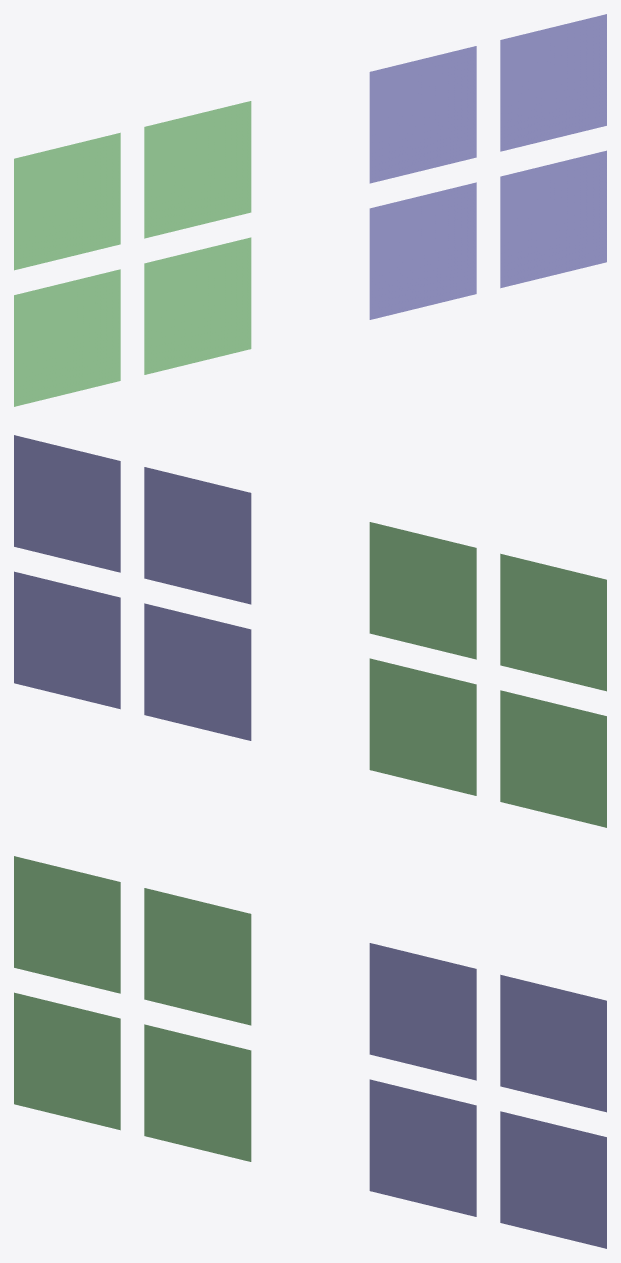
The model's file is SharedPropertyTable.gltf.
3 views of the same model, one above another, from view 1: azimuth 30°, elevation 25°; view 2: azimuth 150°, elevation 25°; view 3: azimuth 330°, elevation 25° (orthographic).
Size of the model in its own units: 2.5 by 1 by 0.
